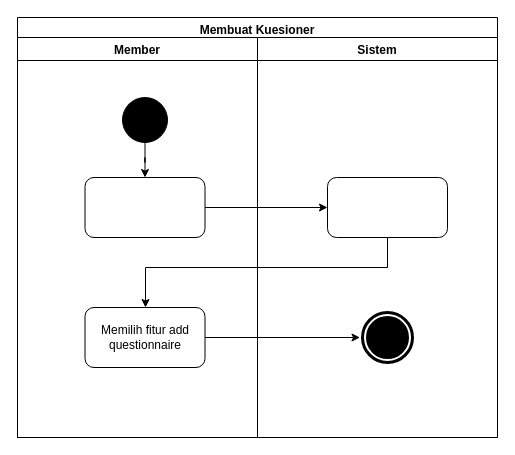
This 515x455 diagram has some shape labels left out. Here are the shapes that lost their labels. From the top down, the centre of each, then its label:
point (144, 207): Membuka halaman dashboard
point (387, 207): Menampilkan halaman dashboard
